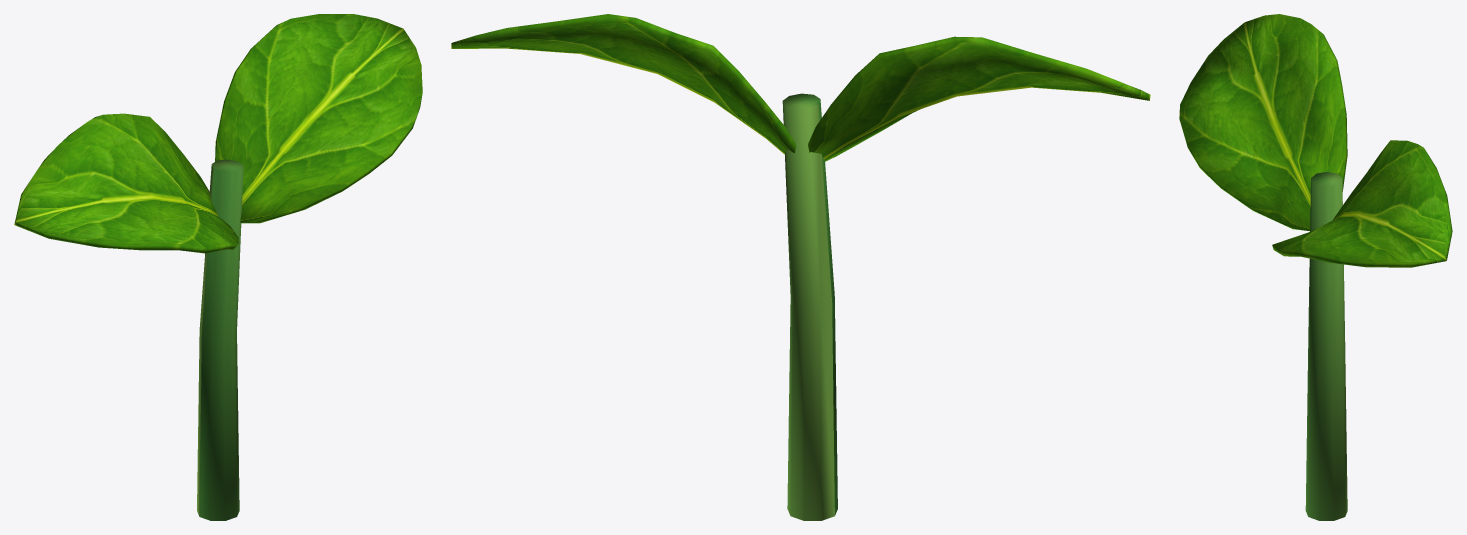
Rendered from NP_Sunflower_Sprout_LOD1.fbx.
The picture shows the model from 3 angles, left to right: view 1: azimuth 30°, elevation 25°; view 2: azimuth 150°, elevation 25°; view 3: azimuth 270°, elevation 25°; orthographic projection. The views are drawn at different scales.
Visible parts, largest first — view 1: NP_Sunflower_Sprout; view 2: NP_Sunflower_Sprout; view 3: NP_Sunflower_Sprout.
Boxes of the visible parts, x1,y1,x2,y2 form: NP_Sunflower_Sprout: [14, 14, 422, 520]; NP_Sunflower_Sprout: [451, 14, 1150, 520]; NP_Sunflower_Sprout: [1179, 14, 1452, 520].
Bounding box in the file's own units: 15.64 × 13.09 × 7.7.
